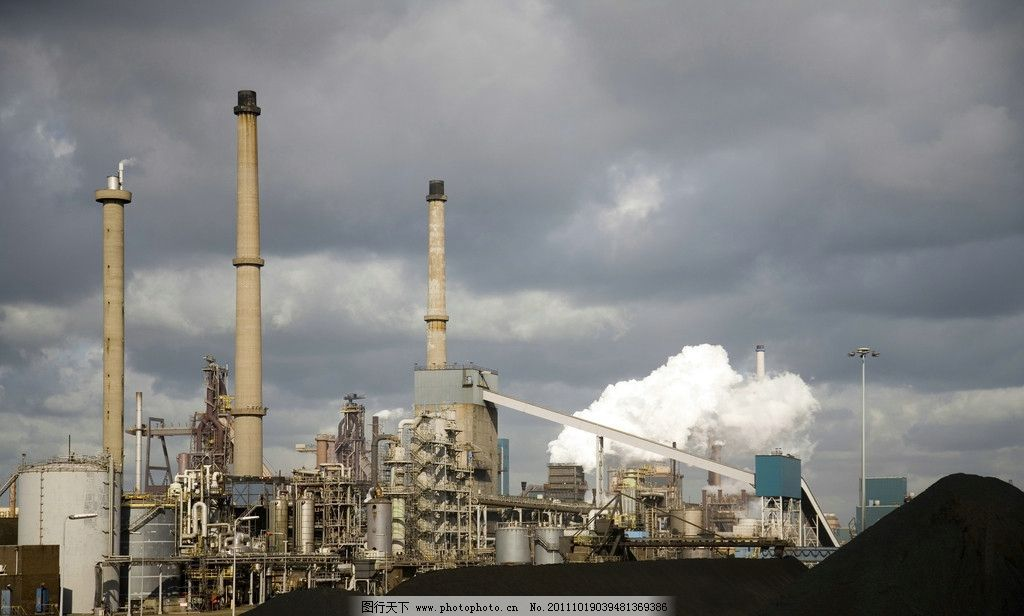dust: (536, 338, 807, 478)
